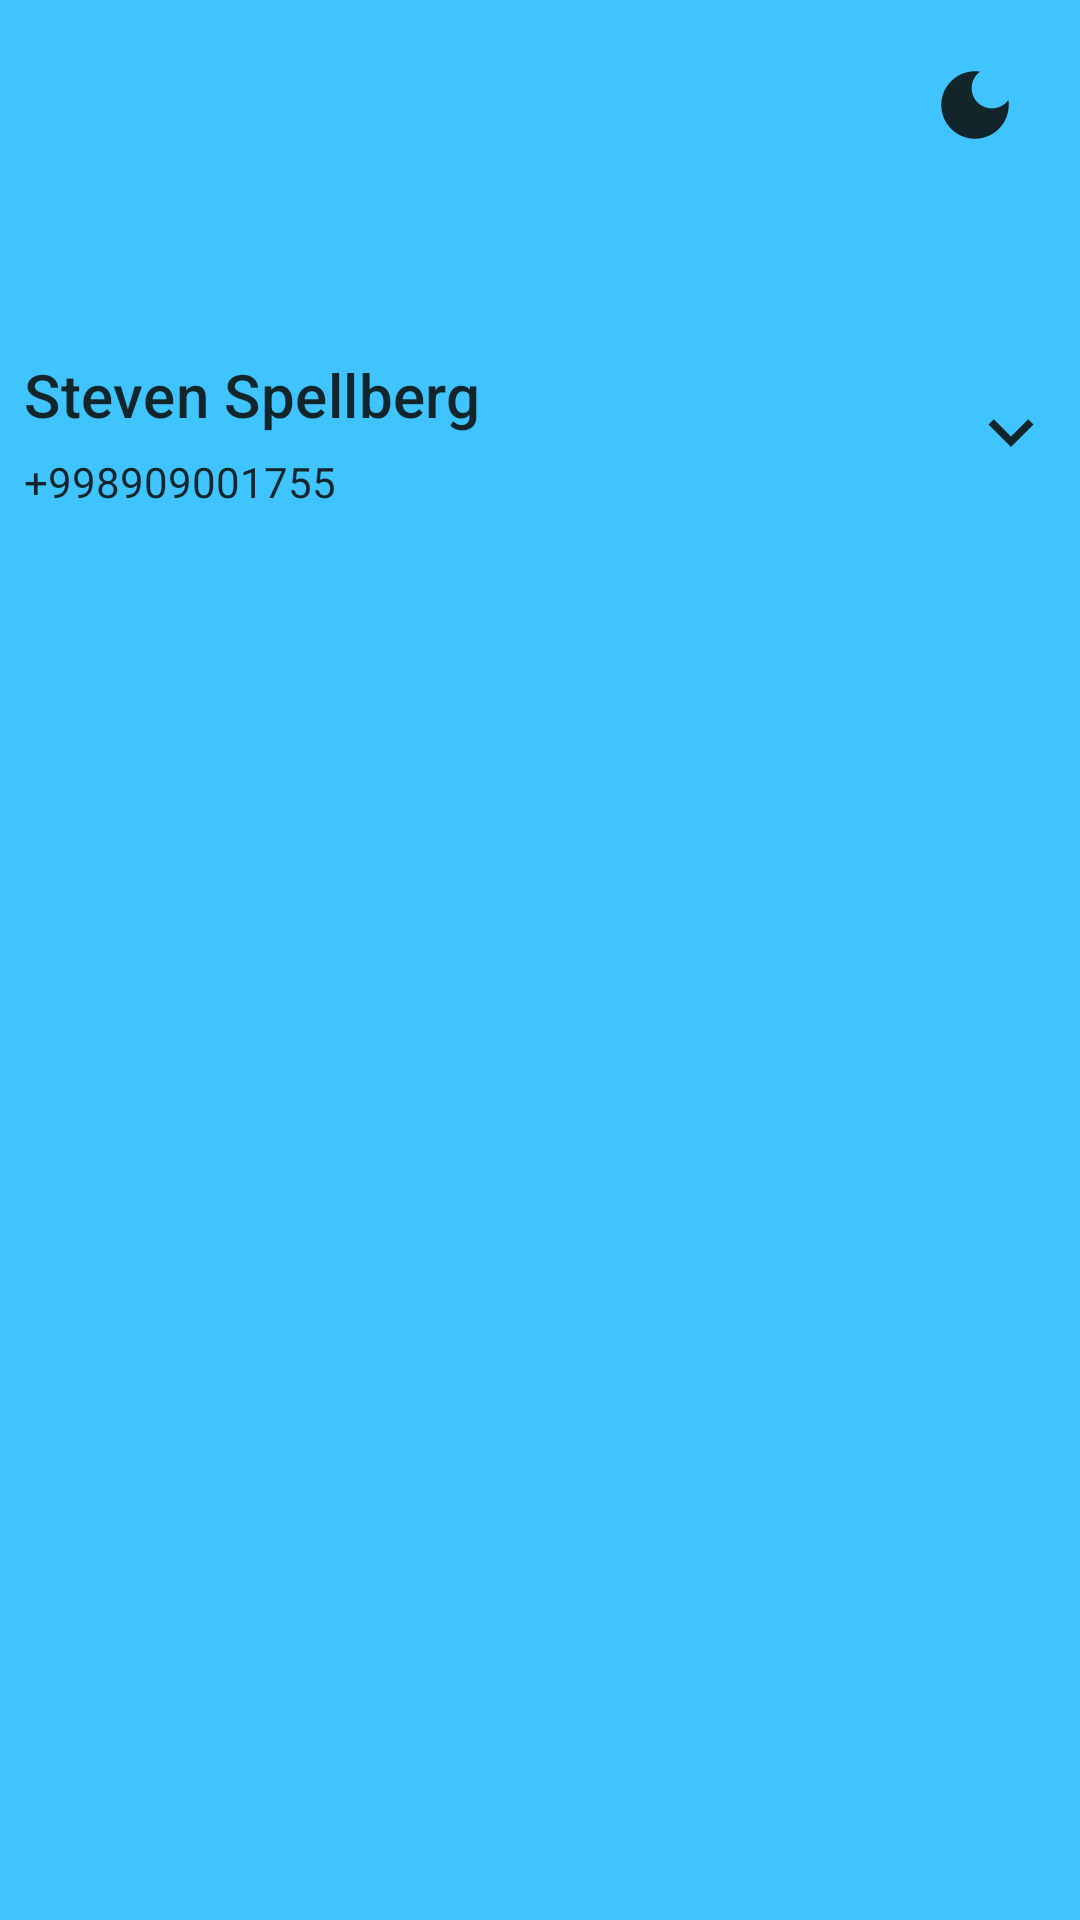

Screen size 1080x1920. Icon name, then its box in pixels as {"left": x1, "top": y1, "right": x2, "bottom": y2}:
keyboard arrow down: {"left": 988, "top": 419, "right": 1034, "bottom": 447}
